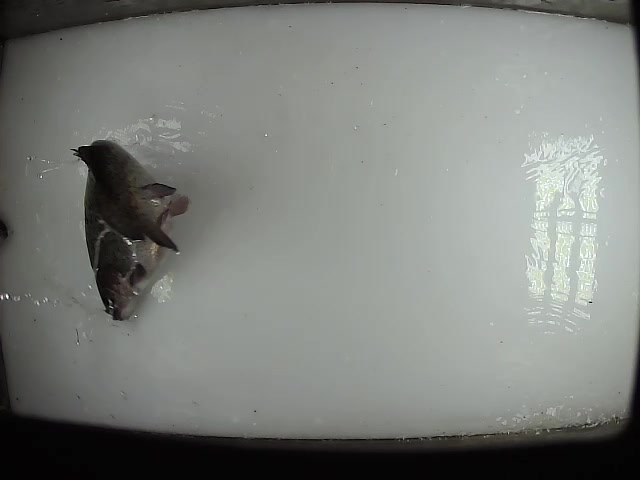fish: (66, 138, 190, 325)
